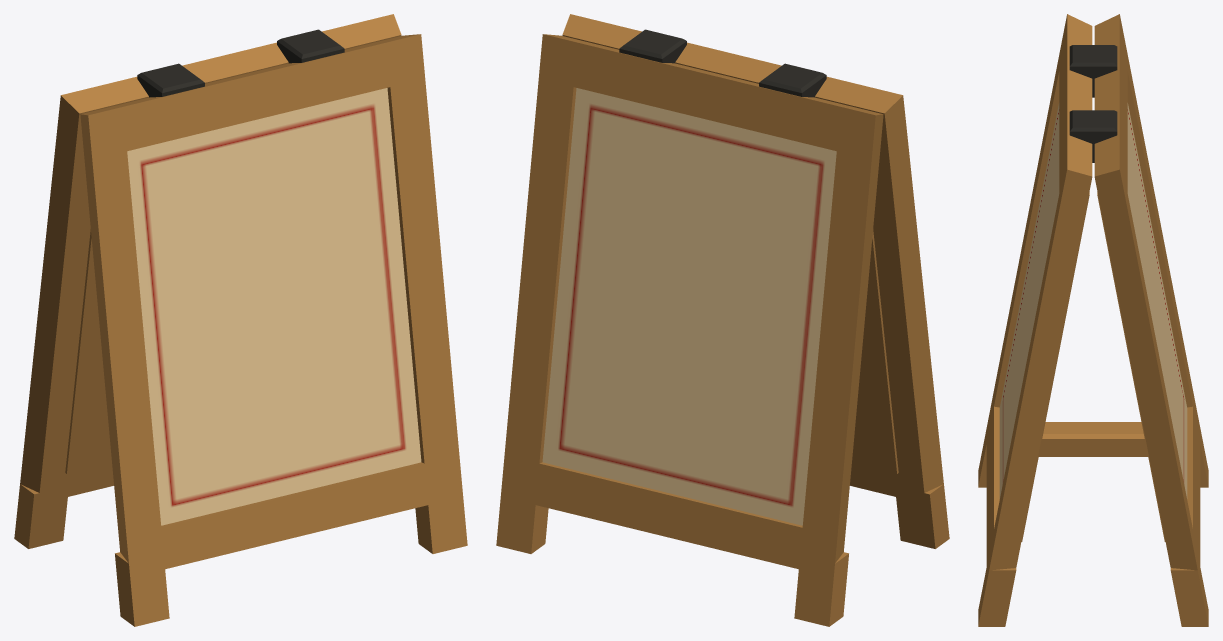
File: SM_Sign_MenuAFrame_Blank_01.fbx
3 renders of one model, left to right at view 1: azimuth 30°, elevation 25°; view 2: azimuth 150°, elevation 25°; view 3: azimuth 270°, elevation 25°, orthographic. The views are drawn at different scales.
Visible parts, largest first — view 1: SM_Sign_MenuAFrame_Blank_01; view 2: SM_Sign_MenuAFrame_Blank_01; view 3: SM_Sign_MenuAFrame_Blank_01.
Part boxes in pixels (x1,y1,x2,y2): SM_Sign_MenuAFrame_Blank_01: (14, 14, 467, 626); SM_Sign_MenuAFrame_Blank_01: (496, 14, 949, 626); SM_Sign_MenuAFrame_Blank_01: (978, 14, 1208, 626).
Size of the model in its own units: 0.62 by 0.8598 by 0.3883.
1 material, 1 textured.
